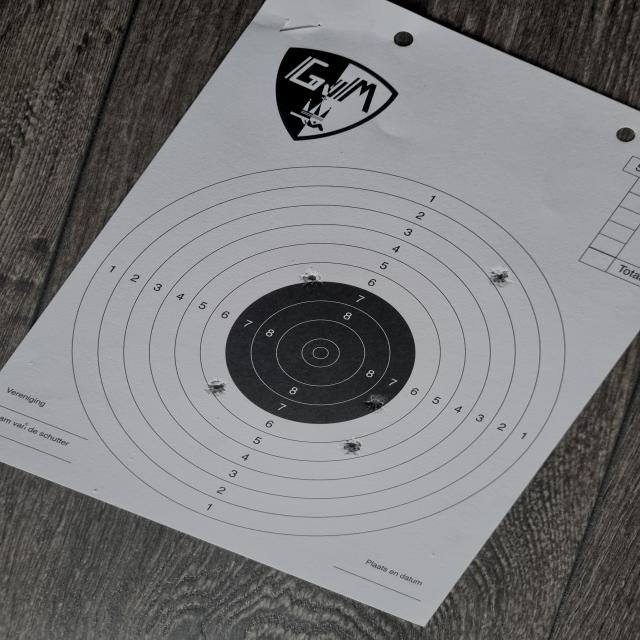3: (488, 270, 513, 284)
6: (202, 378, 227, 398), (340, 437, 363, 456)
7: (364, 394, 388, 413), (299, 270, 322, 286)
Target: (70, 166, 564, 537)
black_contour: (225, 281, 416, 424)
